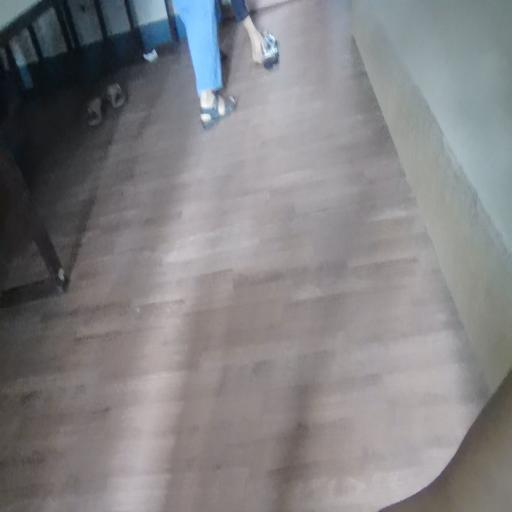car: (257, 23, 287, 60)
